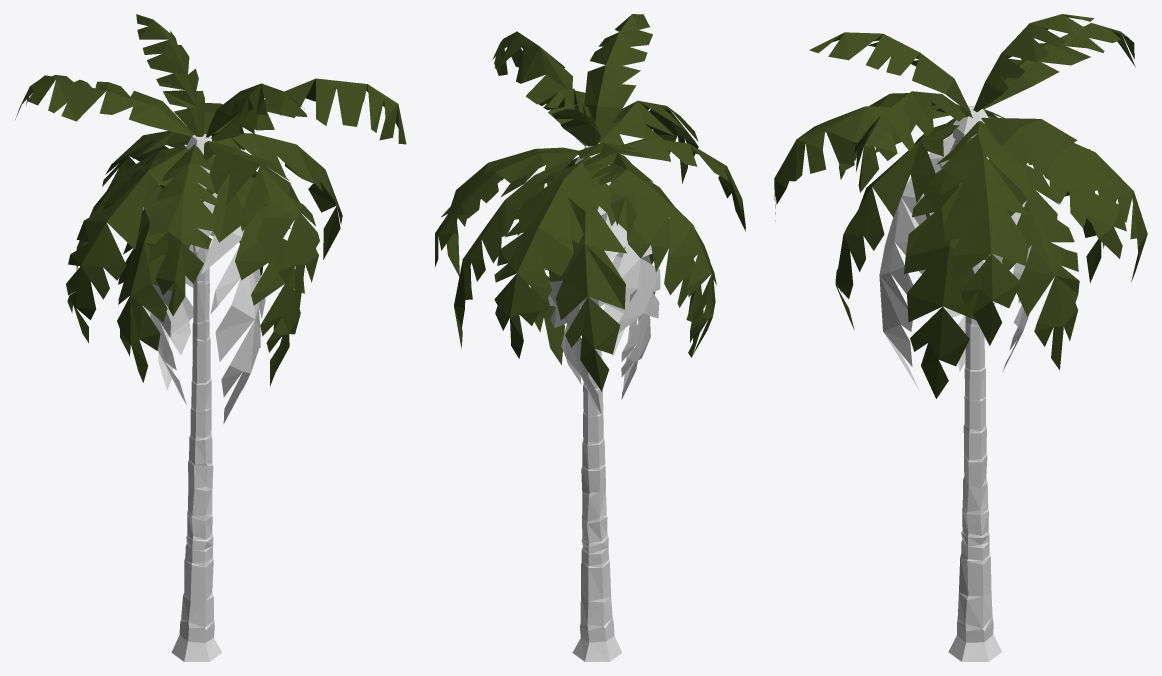
File: SM_Tree_Palm_Withered_A.fbx
3 views of the same model, side by side, from view 1: azimuth 30°, elevation 25°; view 2: azimuth 150°, elevation 25°; view 3: azimuth 270°, elevation 25° (orthographic). The views are drawn at different scales.
Visible parts, largest first — view 1: tree-palm-withered-a; view 2: tree-palm-withered-a; view 3: tree-palm-withered-a.
Boxes of the visible parts, box(x1,y1,x2,y2) form: tree-palm-withered-a: box(15, 14, 406, 661); tree-palm-withered-a: box(435, 14, 745, 661); tree-palm-withered-a: box(774, 14, 1147, 661).
Bounding box in the file's own units: 3.72 × 7.82 × 4.16.
